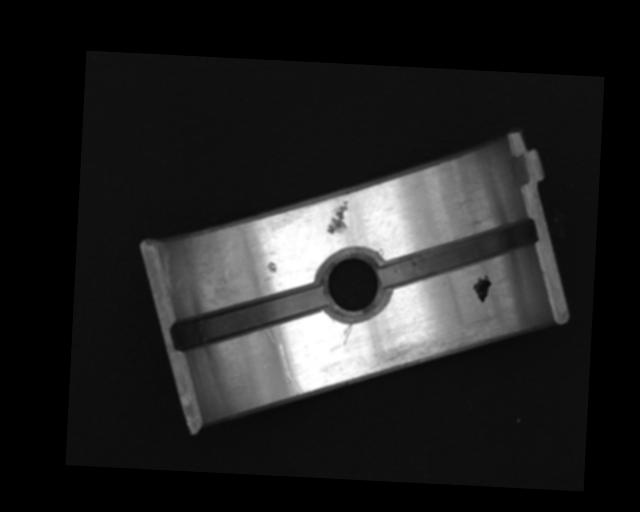blot: (472, 273, 492, 304)
bruise: (324, 199, 349, 235), (265, 260, 277, 275)
gap: (379, 212, 538, 296), (171, 279, 324, 356)
hole: (315, 248, 391, 326)
nick: (274, 343, 306, 396), (341, 320, 353, 345)
scratch: (379, 318, 511, 376)
